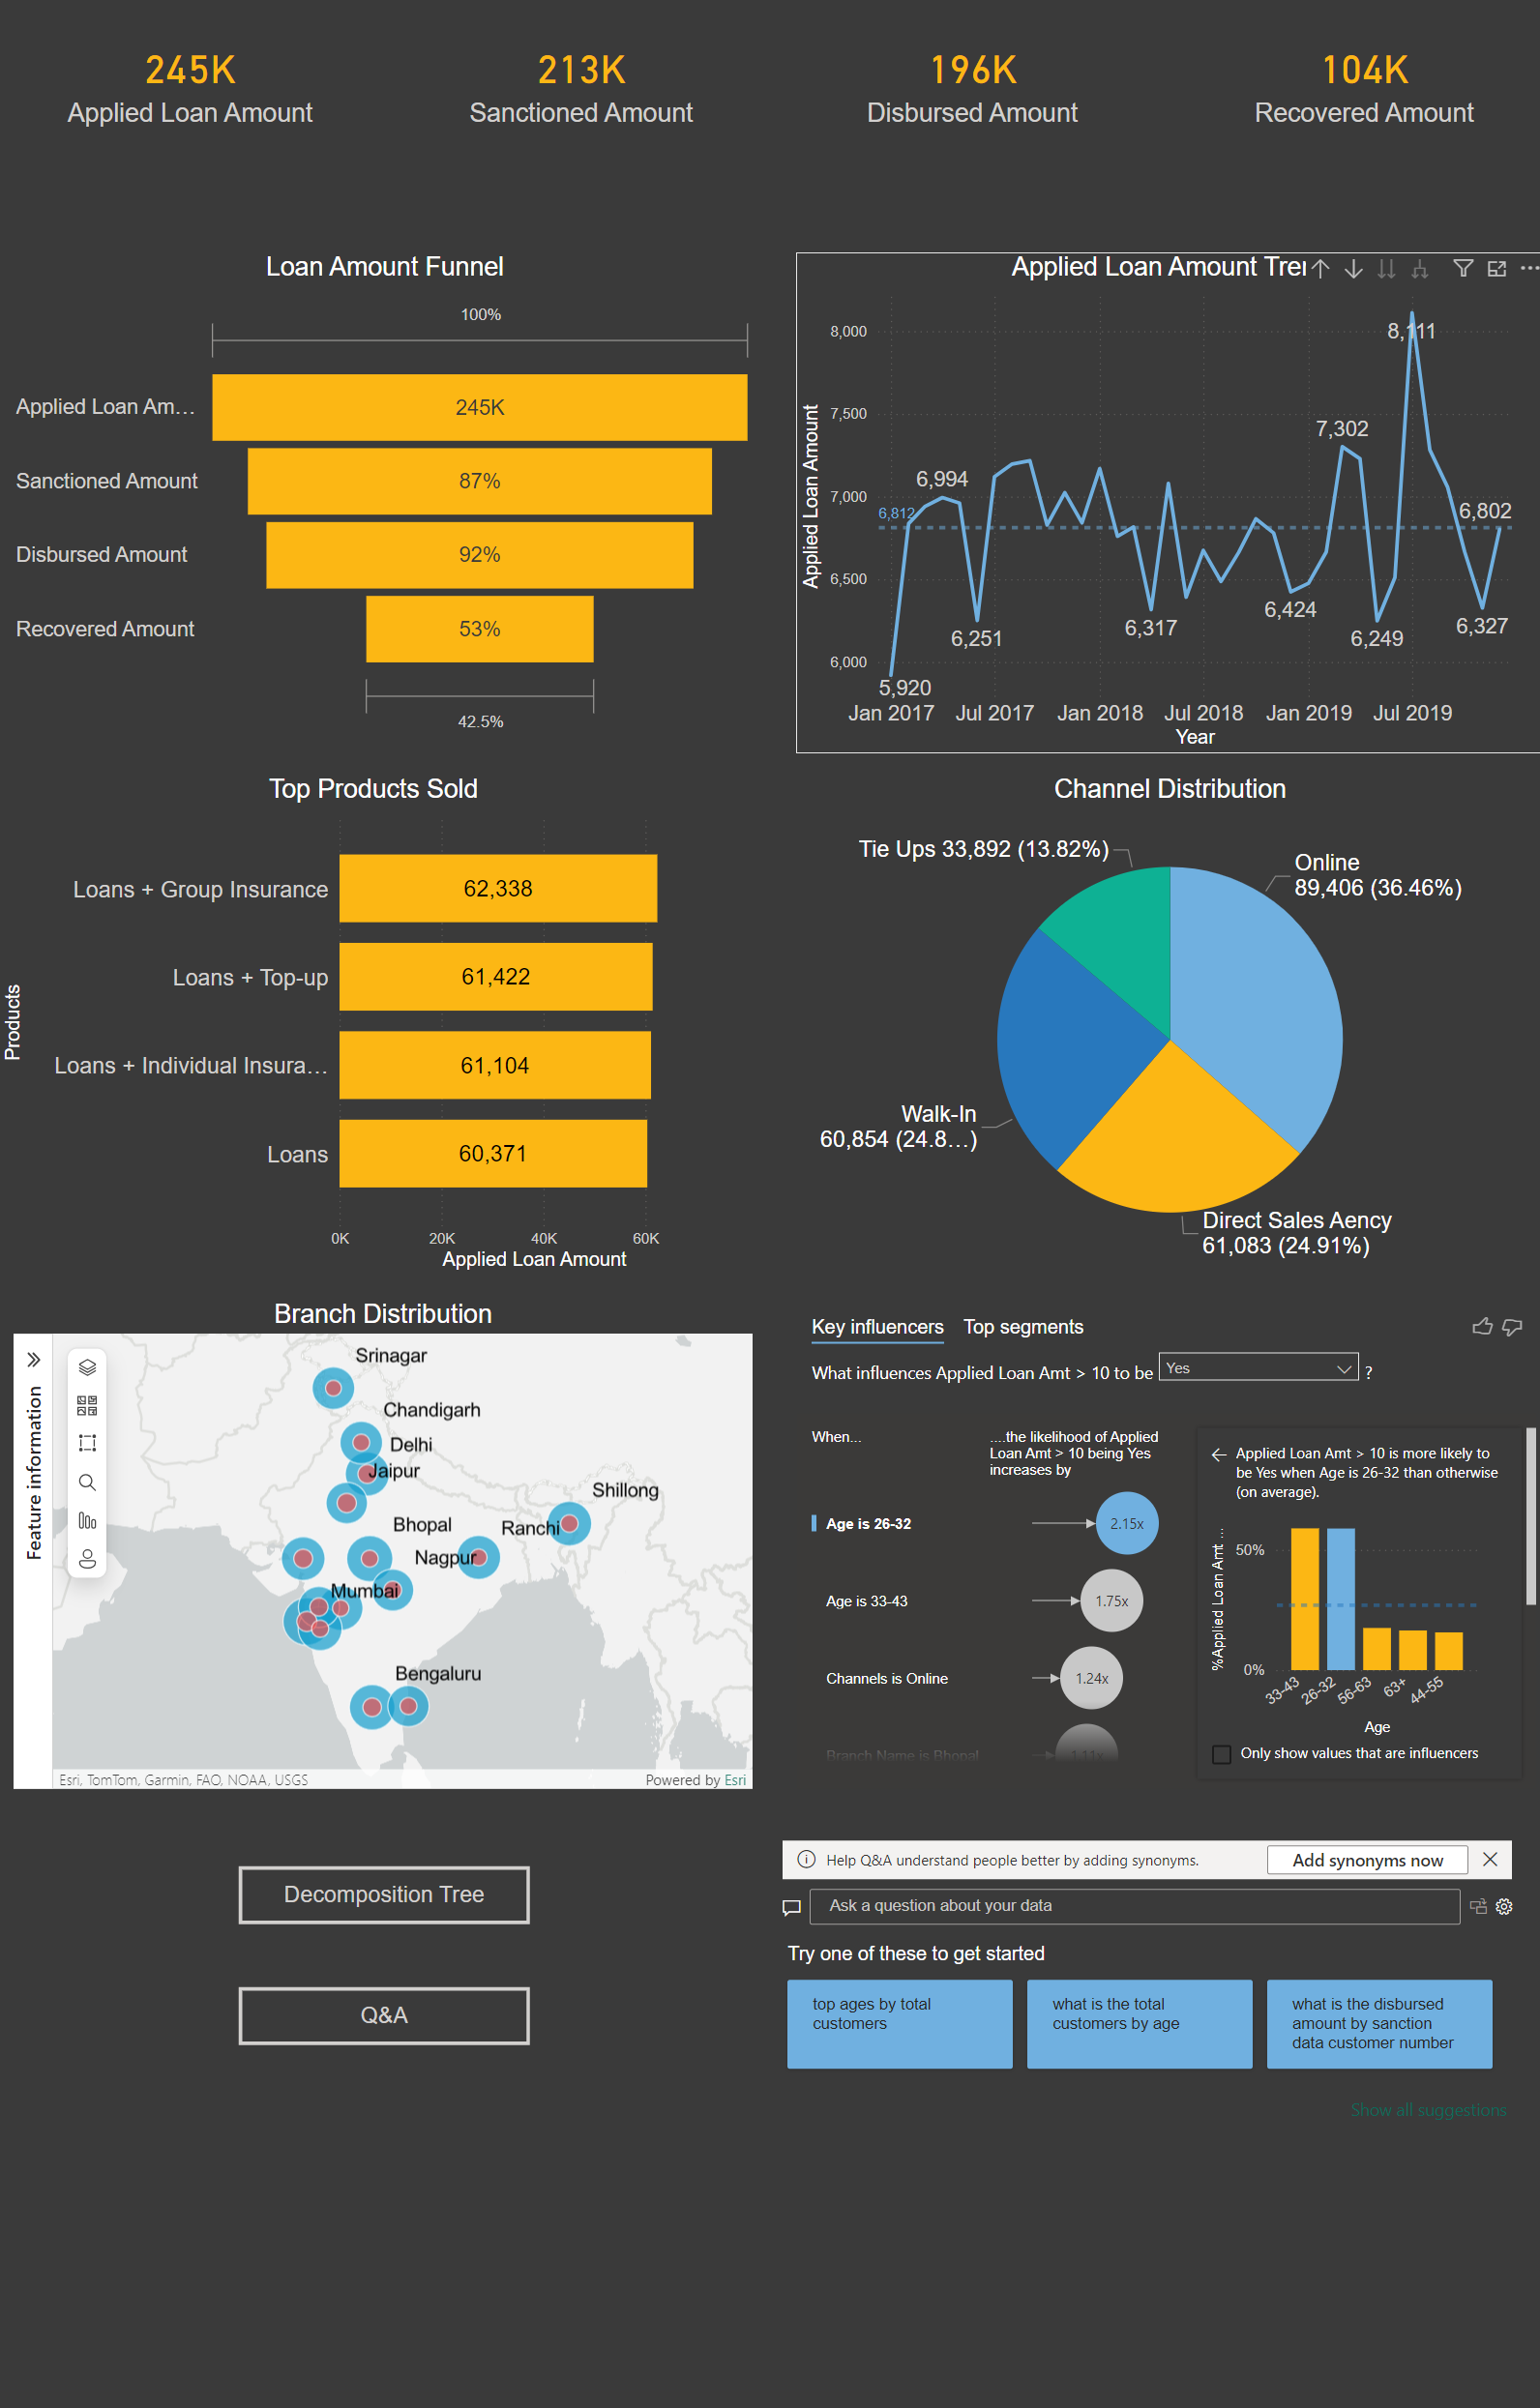

What the dashboard file says about the page in this screenshot:
{"tool":"powerbi","page":{"name":"Page 1","canvas":[1280,2000],"ordinal":0},"visuals":[{"type":"card","fields":{"Values":["Customer.Applied Loan Amount"]},"box":[9,0,300,140],"z":0},{"type":"card","fields":{"Values":["Sanction Data.Sanctioned Amount"]},"box":[332.4,0,300.4,140.7],"z":1000},{"type":"card","fields":{"Values":["Sanction Data.Disbursed Amount"]},"box":[656.1,0,300.4,140.7],"z":2000},{"type":"card","fields":{"Values":["Recovery Data.Recovered Amount"]},"box":[979.6,0,300.4,140.7],"z":3000},{"type":"funnel","title":"Loan Amount Funnel","fields":{"Y":["Customer.Applied Loan Amount","Sanction Data.Sanctioned Amount","Sanction Data.Disbursed Amount","Recovery Data.Recovered Amount"]},"box":[9.5,212,620,415],"z":4000},{"type":"lineChart","title":"Applied Loan Amount Trend","fields":{"Y":["Customer.Applied Loan Amount"],"Category":["Dates.Month Yr.Variation.Date Hierarchy.Year","Dates.Month Yr.Variation.Date Hierarchy.Quarter","Dates.Month Yr.Variation.Date Hierarchy.Month"]},"box":[660.4,212.2,619.9,414.8],"z":5000},{"type":"barChart","title":"Top Products Sold","fields":{"Y":["Customer.Applied Loan Amount"],"Category":["Product.Products"]},"box":[0,643.7,621,414.8],"z":6000},{"type":"pieChart","title":"Channel Distribution","fields":{"Y":["Customer.Applied Loan Amount"],"Category":["Channel.Channels"]},"box":[659.2,643.7,621,414.8],"z":7000},{"type":"esriVisual","title":"Branch Distribution","fields":{"Color":["Customer.Applied Loan Amt > 10"],"Latitude":["Branch.Branch Latitute"],"Longitude":["Branch.Branch Longitude"],"Size":["Customer.Applied Loan Amount"]},"box":[8.3,1077.6,621,410.1],"z":8000},{"type":"keyDriversVisual","title":"Branch Distribution","fields":{"Target":["Customer.Applied Loan Amt > 10"],"ExplainBy":["Customer.Age","Customer.Occupation","Customer.Salary","Customer.Gender","Channel.Channels","Branch.Branch Name","Product.Products"]},"box":[655.6,1077.6,621,410.1],"z":10000},{"type":"actionButton","box":[199.1,1547.3,240.8,47.7],"z":11001},{"type":"actionButton","box":[199.1,1647.4,240.8,47.7],"z":11002},{"type":"qnaVisual","title":"Branch Distribution","box":[640.1,1512.7,621,410.1],"z":11003}]}

Visuals, with their boxes in screenshot pixels (x1, y1, x2, y2), scaled from the page's 1280x2000 canvas onto the 1540x2408 screenshot:
card - Customer.Applied Loan Amount: BBox(11, 0, 371, 168)
card - Sanction Data.Sanctioned Amount: BBox(400, 0, 761, 169)
card - Sanction Data.Disbursed Amount: BBox(789, 0, 1151, 169)
card - Recovery Data.Recovered Amount: BBox(1178, 0, 1539, 169)
"Loan Amount Funnel" funnel: BBox(12, 255, 757, 755)
"Applied Loan Amount Trend" lineChart: BBox(794, 255, 1539, 755)
"Top Products Sold" barChart: BBox(0, 775, 747, 1275)
"Channel Distribution" pieChart: BBox(793, 775, 1539, 1275)
"Branch Distribution" esriVisual: BBox(10, 1298, 757, 1791)
"Branch Distribution" keyDriversVisual: BBox(788, 1298, 1536, 1791)
actionButton: BBox(240, 1863, 529, 1921)
actionButton: BBox(240, 1983, 529, 2041)
"Branch Distribution" qnaVisual: BBox(770, 1821, 1517, 2315)
